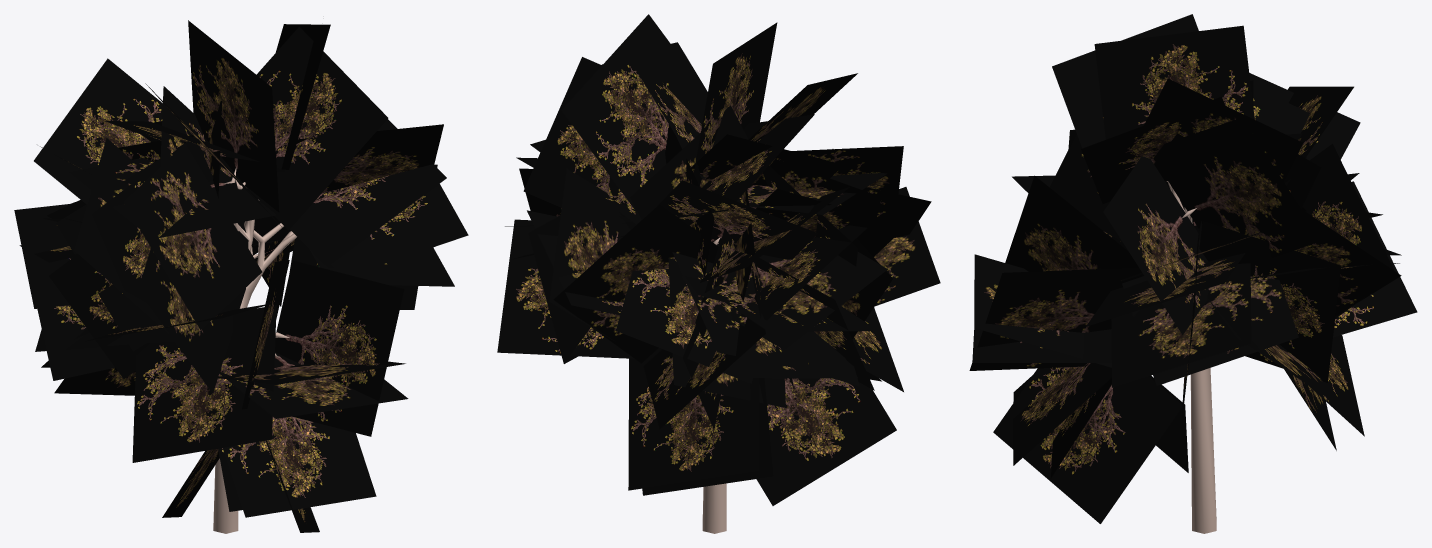
File: tree49.glb
3 renders of one model, left to right at view 1: azimuth 30°, elevation 25°; view 2: azimuth 150°, elevation 25°; view 3: azimuth 270°, elevation 25°, orthographic. The views are drawn at different scales.
Size of the model in its own units: 6.01 by 7.25 by 5.96.
2 materials, 1 textured.
